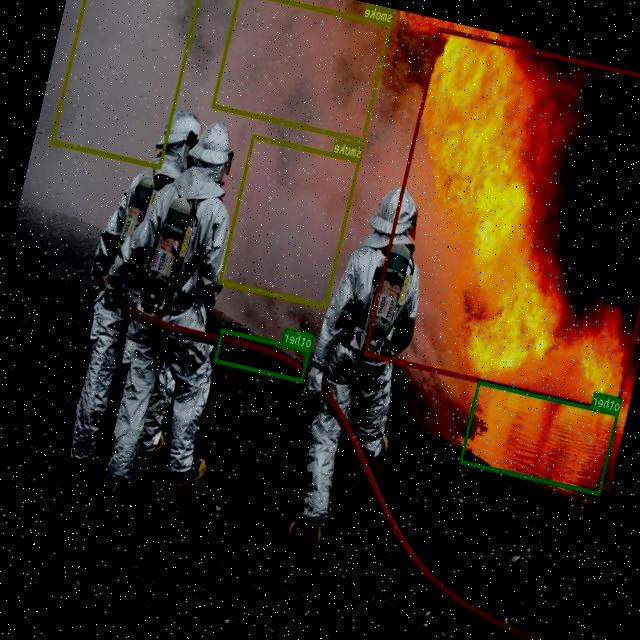fire: (363, 26, 640, 413)
smoke: (50, 0, 203, 169), (212, 0, 391, 142), (219, 134, 360, 307)
